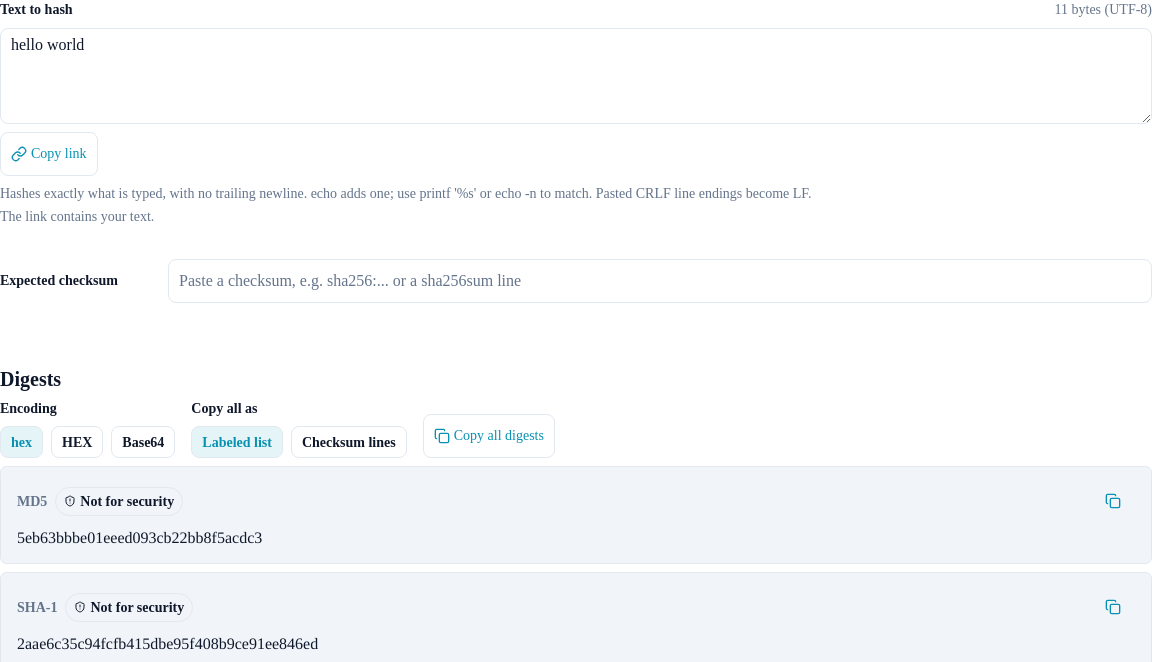
Test: INT-01 Esc › INT-01: Esc while a dialog is open does not reset the tool
The image size is (1152, 662).
Replace the text in the text box with test id "hash-input" with "secret text" at (576, 76), box [0,28,1151,124]
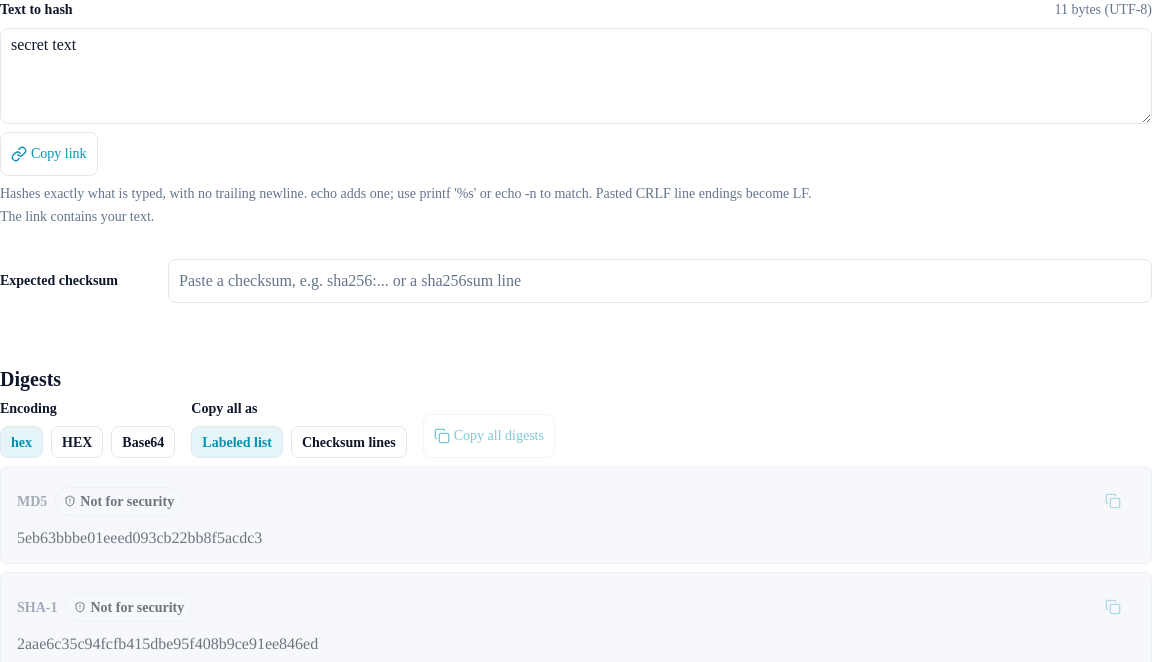
Press Escape
Press Escape
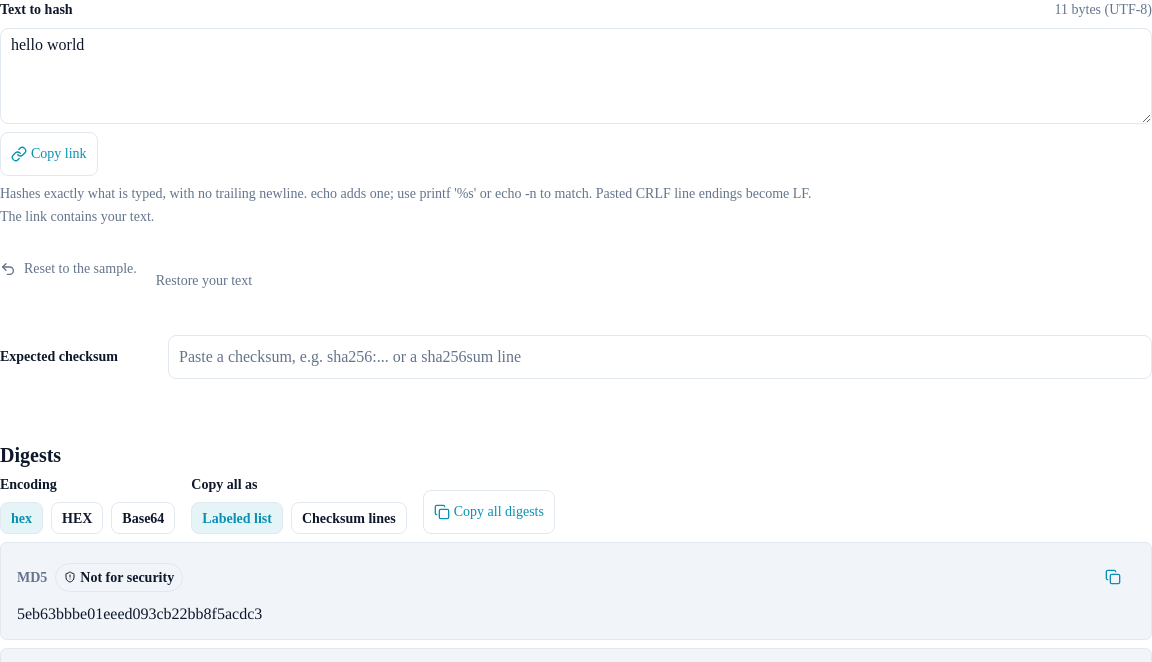
Now the text box with test id "hash-input" holds "hello world", box [0,28,1151,124]
